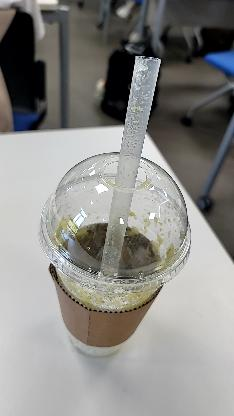Plastic Cup: (35, 152, 193, 361), (35, 152, 194, 290), (97, 58, 161, 278)
